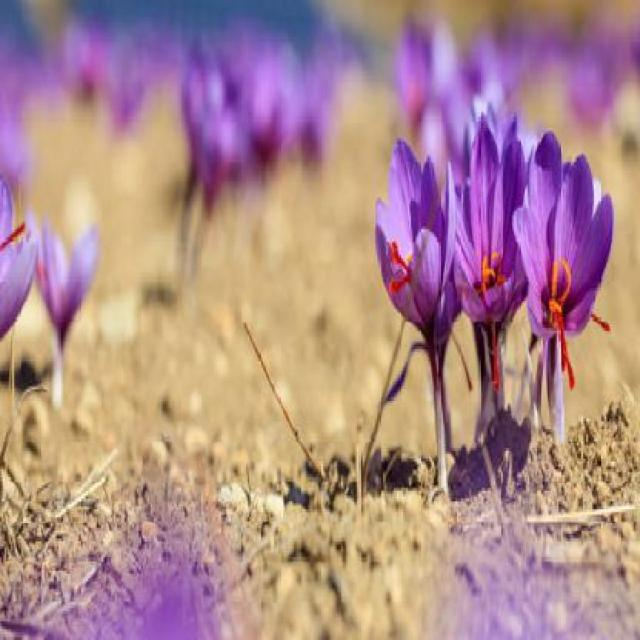saffron open: (376, 140, 460, 491), (513, 132, 614, 421), (456, 114, 528, 444), (32, 224, 99, 400), (1, 179, 33, 339)
